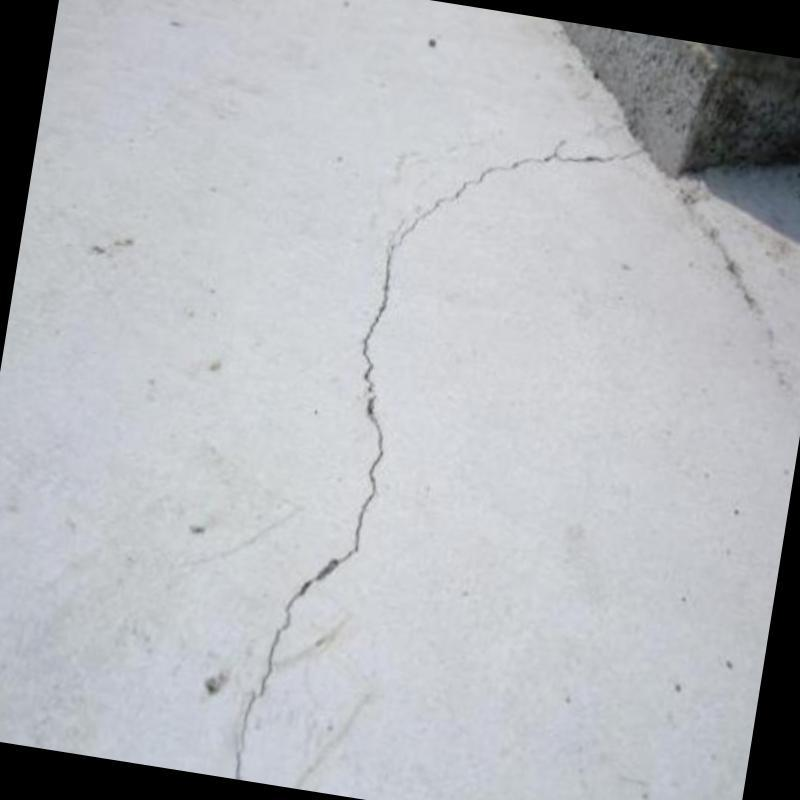pothole: (233, 141, 636, 778)
